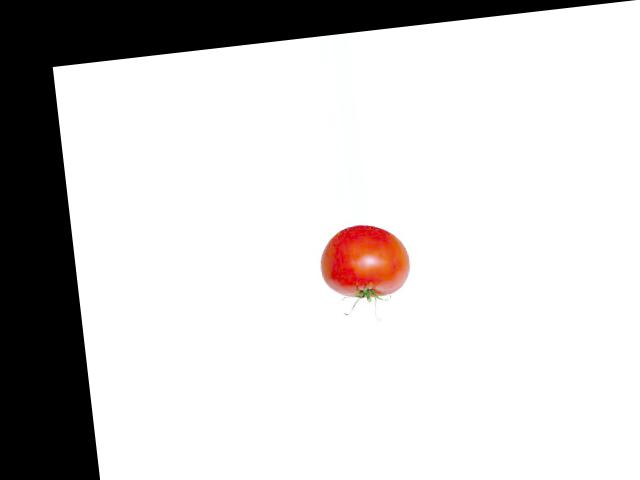tomato: (317, 220, 412, 302)
